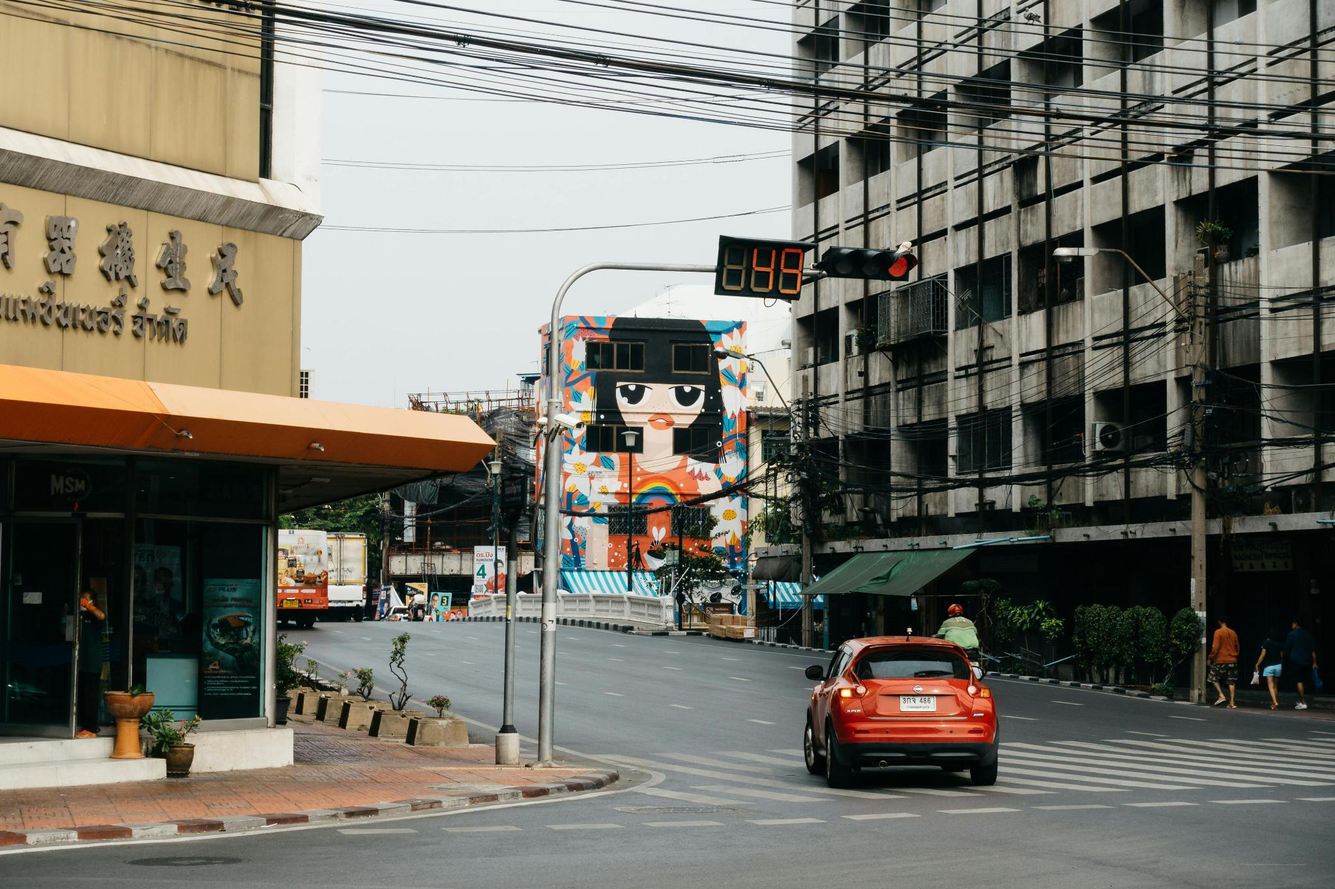car: (810, 636, 1003, 782)
